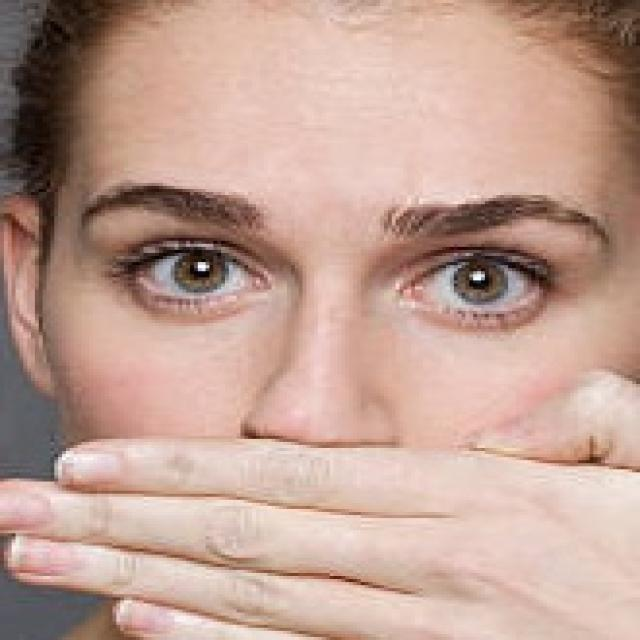Anxiety: (2, 0, 636, 637)
